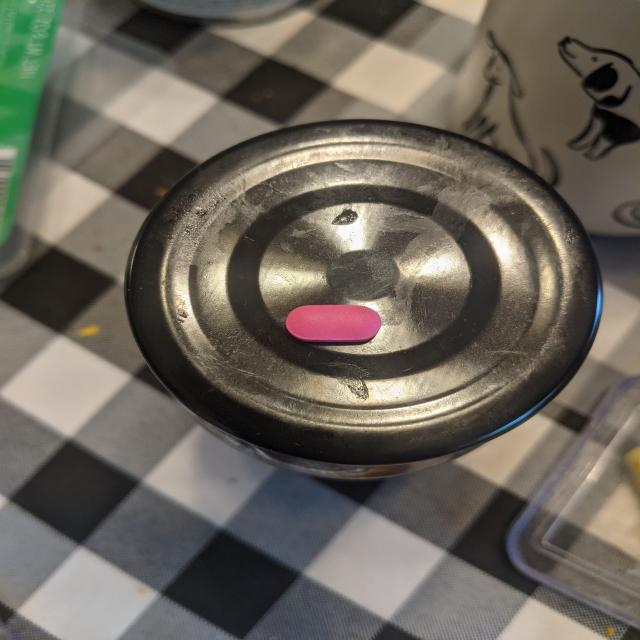non-organic waste: (285, 304, 382, 343)
